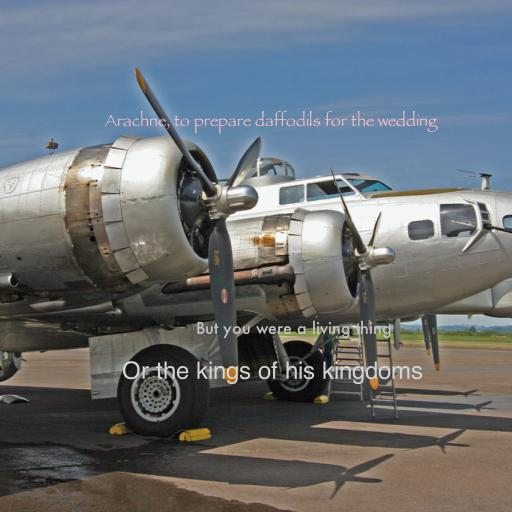Futura: (196, 320, 392, 339)
Impact: (121, 361, 423, 385)
Papyrus: (105, 110, 437, 134)
